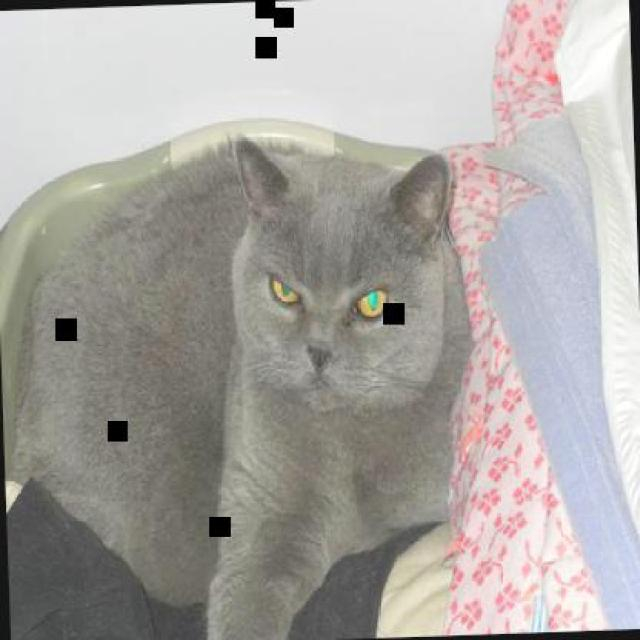cat: (0, 124, 483, 638)
